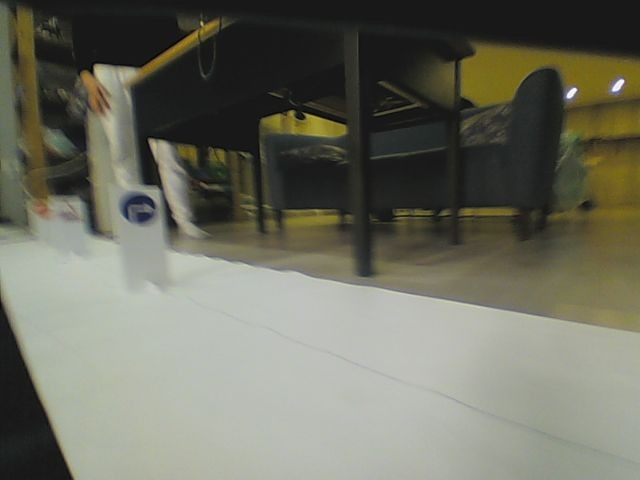Right: (120, 193, 158, 224)
